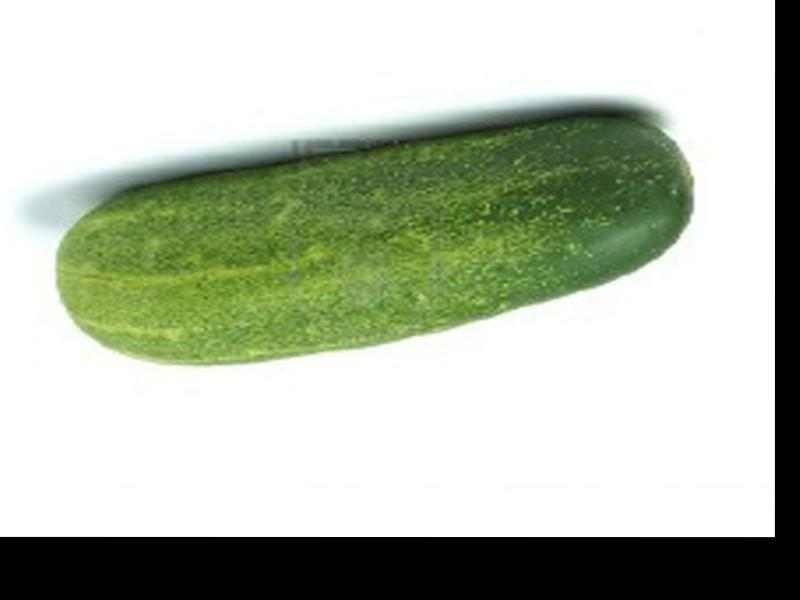Cucumber: (56, 113, 690, 364)
